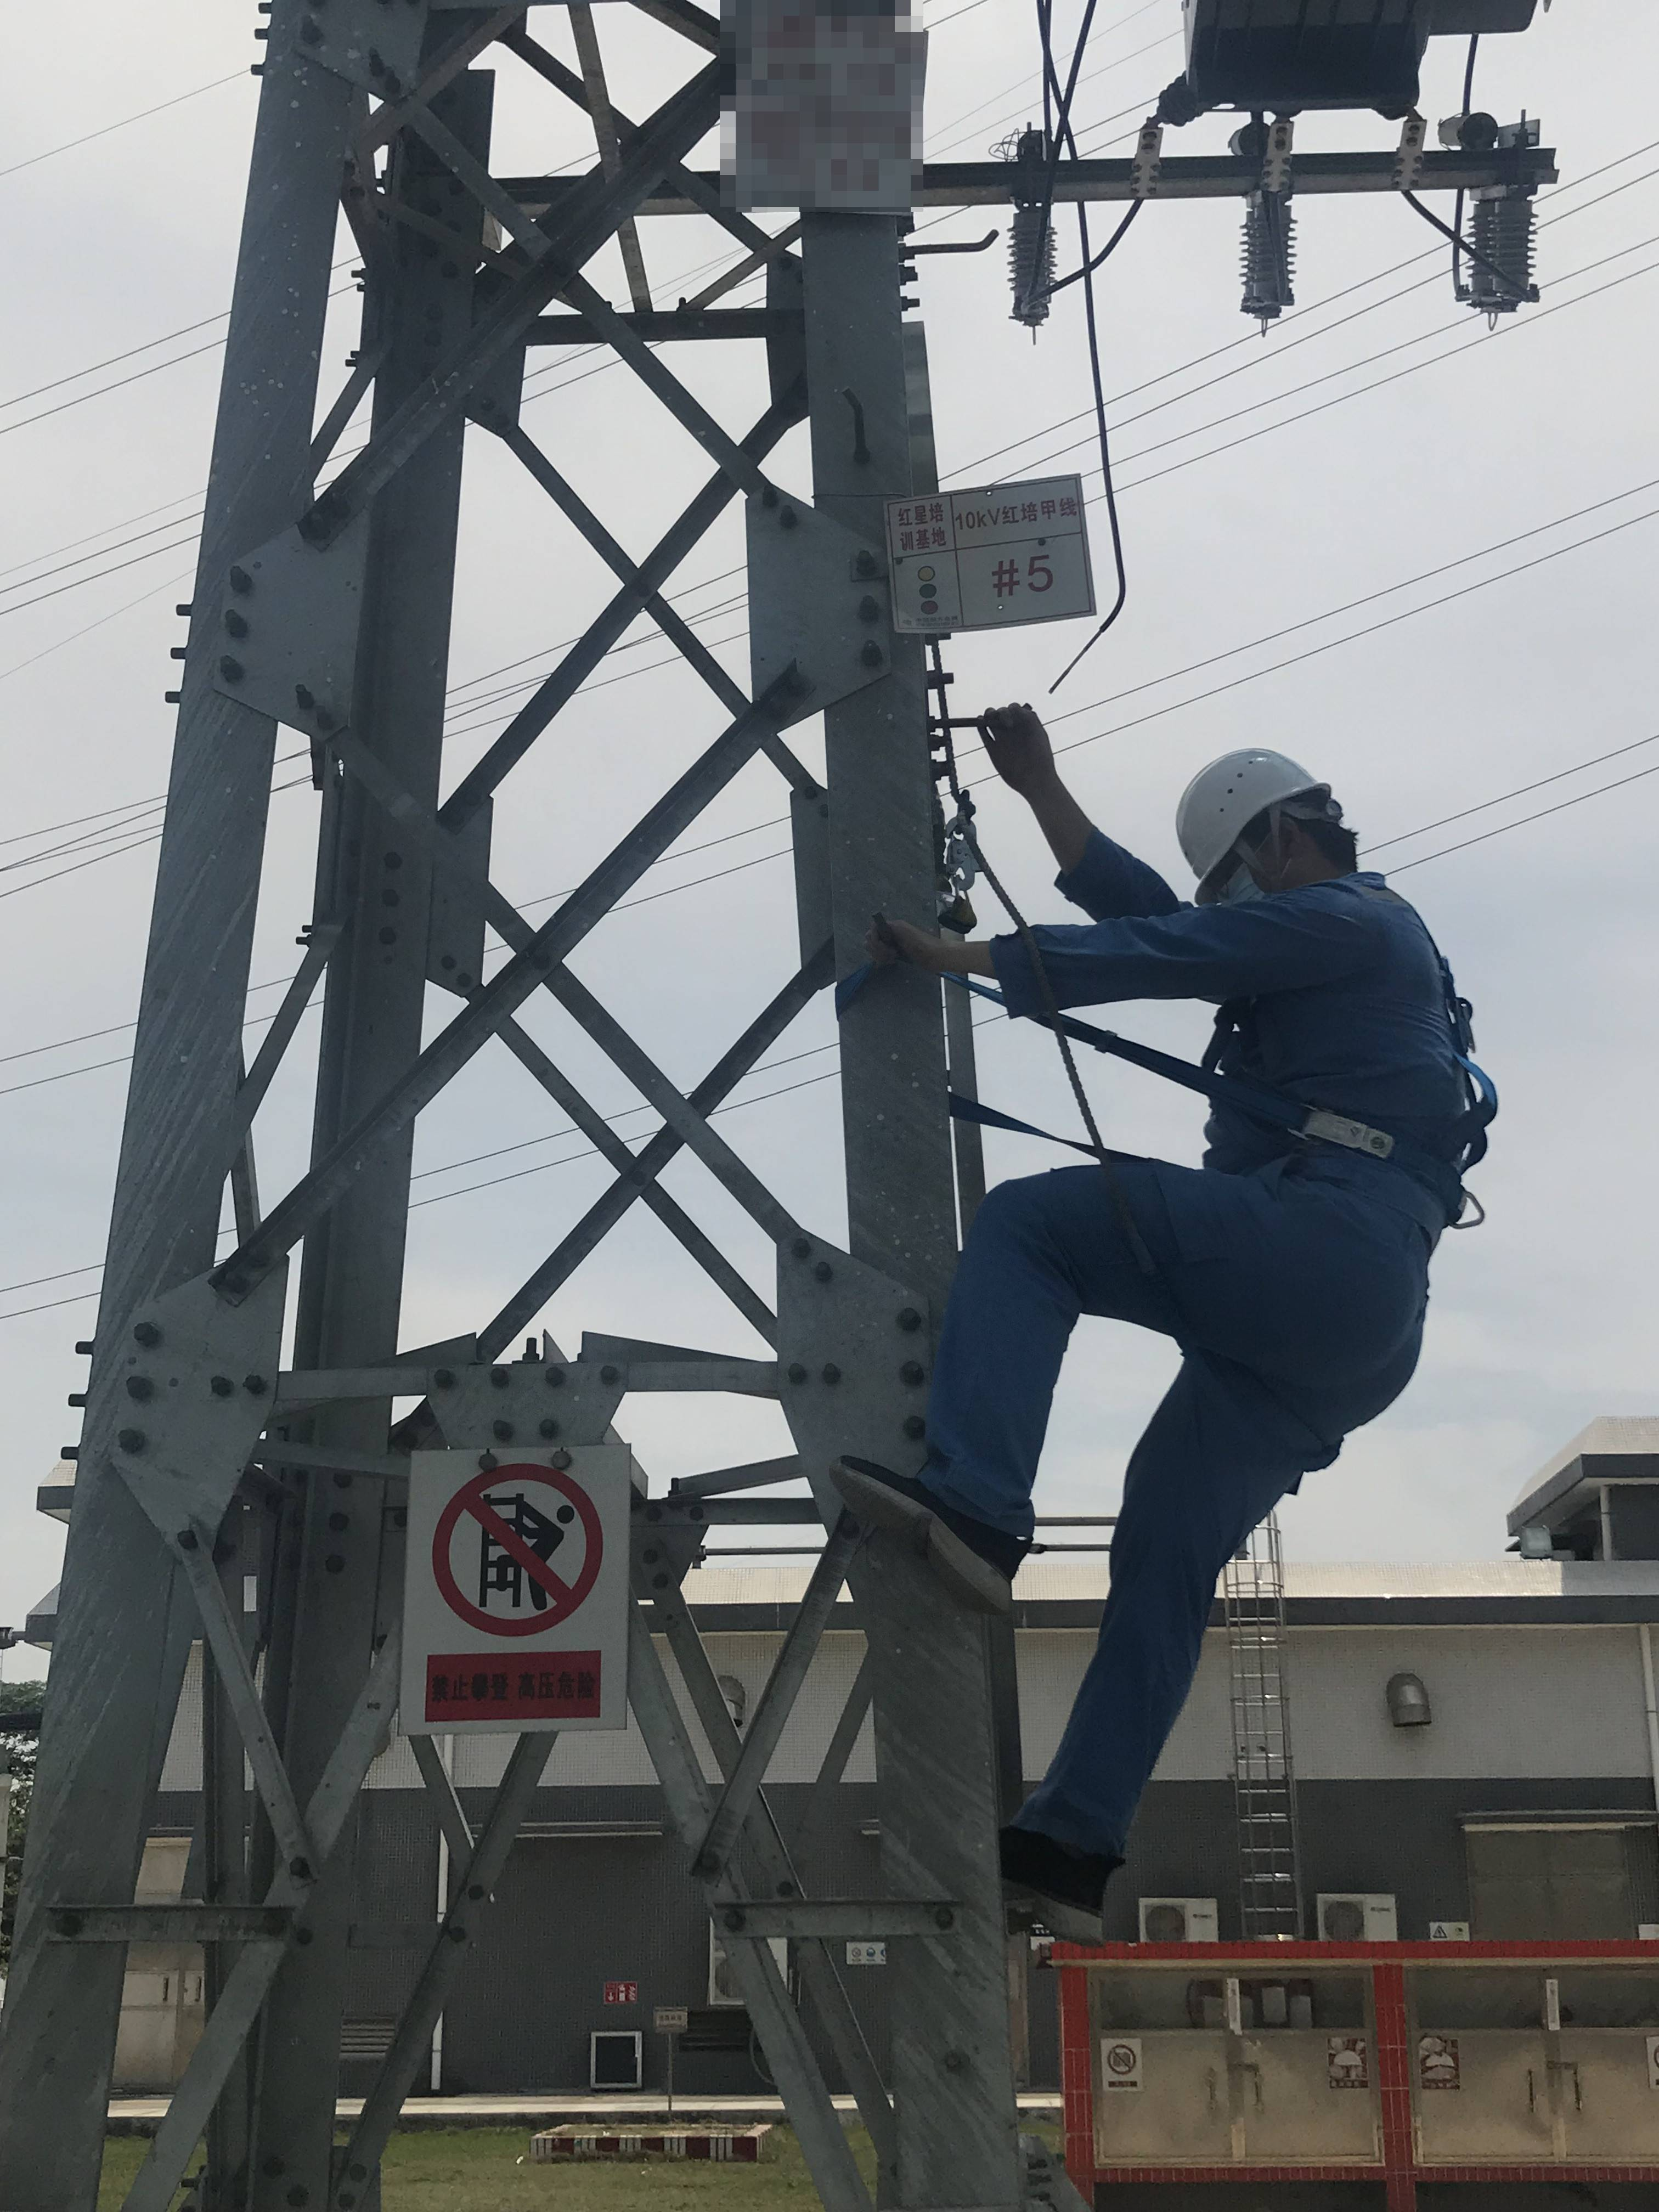downsuit: (974, 1186, 1384, 1831)
upsuit: (1082, 866, 1466, 1212)
